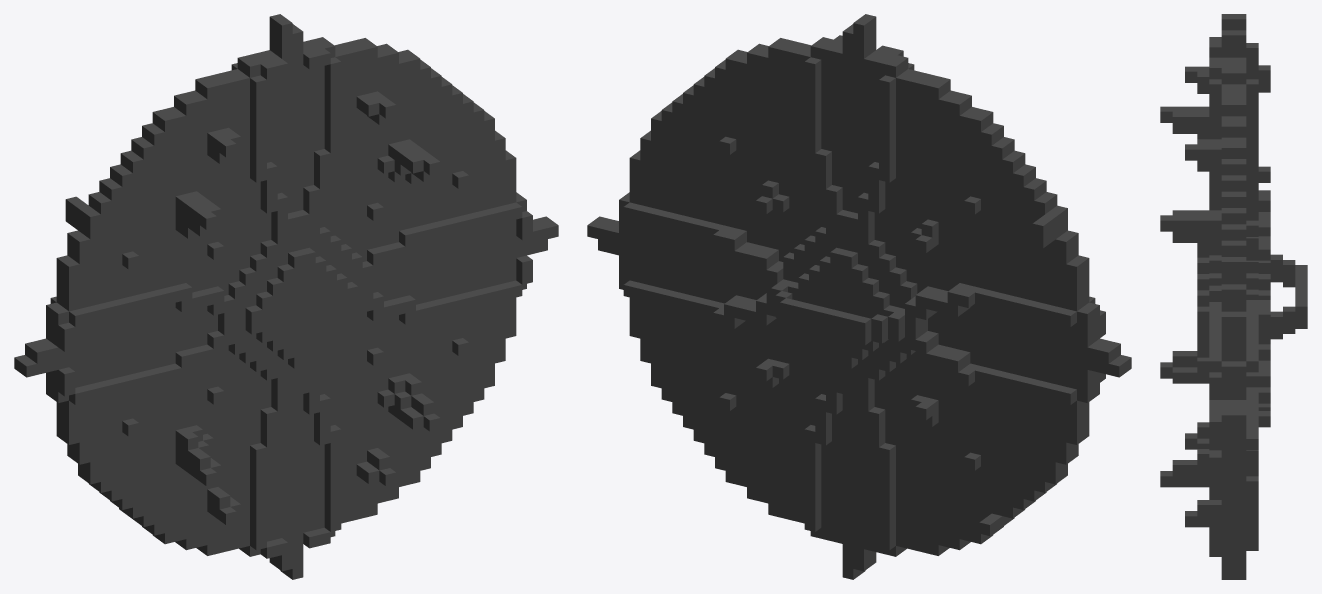
Rendered from Shield.obj.
The picture shows the model from 3 angles, left to right: view 1: azimuth 30°, elevation 25°; view 2: azimuth 150°, elevation 25°; view 3: azimuth 270°, elevation 25°; orthographic projection.
Size of the model in its own units: 5 by 5 by 1.2.
